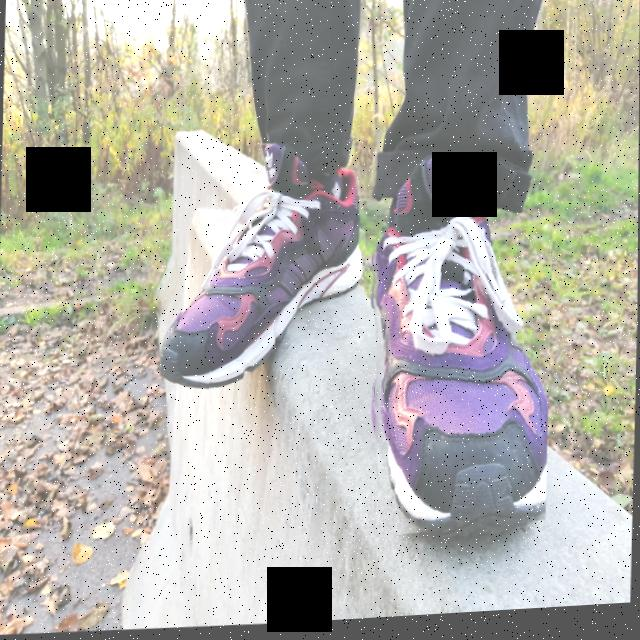shoe: (362, 153, 554, 545), (158, 141, 368, 404)
